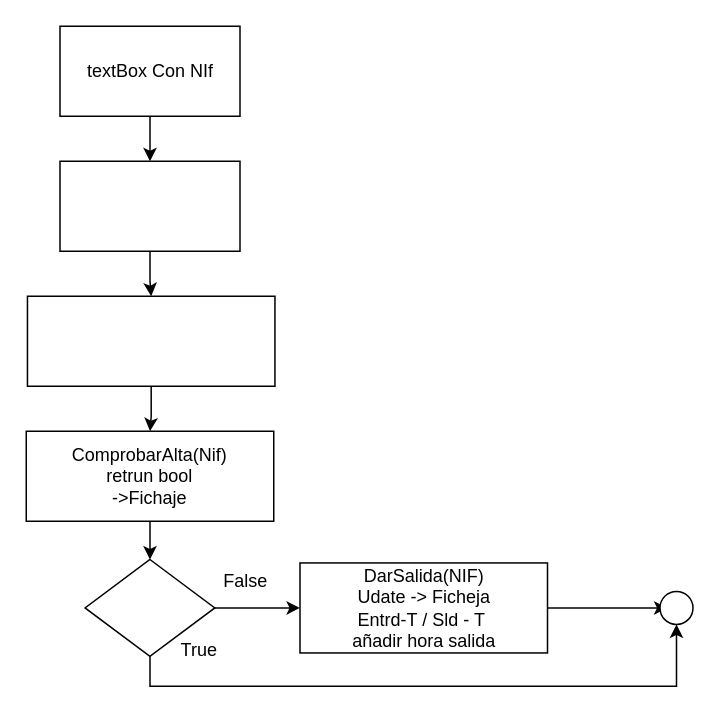
The diagram is 720 pixels wide and 725 high, and some of its shapes have lost their labels. Here are the shapes that lost their labels. From the top down, the centre of each, then its label:
At (149,205): "ComprobarLetra(Nif) retrun bool".
At (150,340): "ComprobarEmpleado(Nif) retrun bool / obejeto? ->Epleado".
